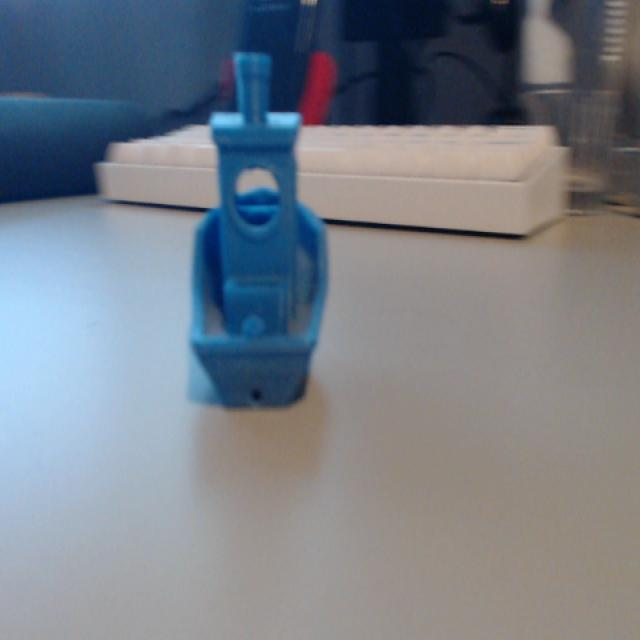benchy: (185, 48, 331, 411)
